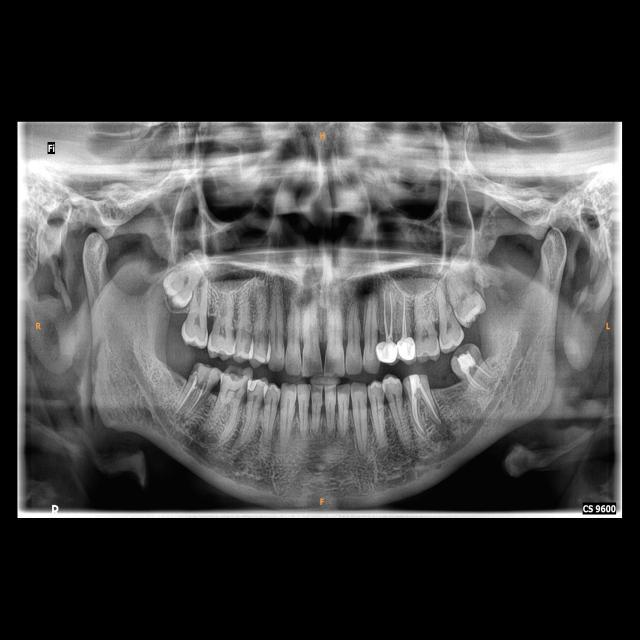dentin-curugu: (226, 365, 247, 384), (187, 362, 201, 378)
dolgu: (248, 376, 270, 397), (457, 353, 479, 373), (406, 374, 426, 392)
kanal-tedavisi: (382, 291, 398, 348), (412, 392, 437, 427), (181, 381, 203, 419), (470, 366, 493, 392)
kaplama: (397, 339, 416, 362), (376, 346, 397, 360)
kok-enfeksiyonu: (353, 270, 380, 303), (427, 412, 456, 440)
